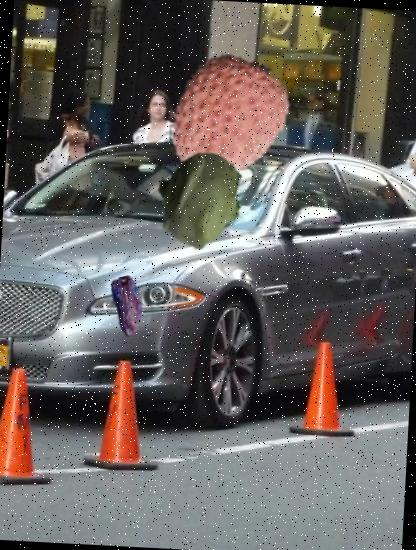Dates: (96, 274, 160, 338)
Kohlrabi: (148, 147, 252, 252)
Lychee: (158, 51, 296, 188)
